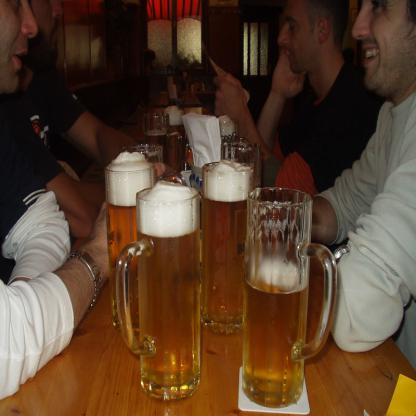drinking: (242, 187, 337, 408), (116, 180, 200, 402), (105, 151, 156, 332), (203, 160, 254, 336)
